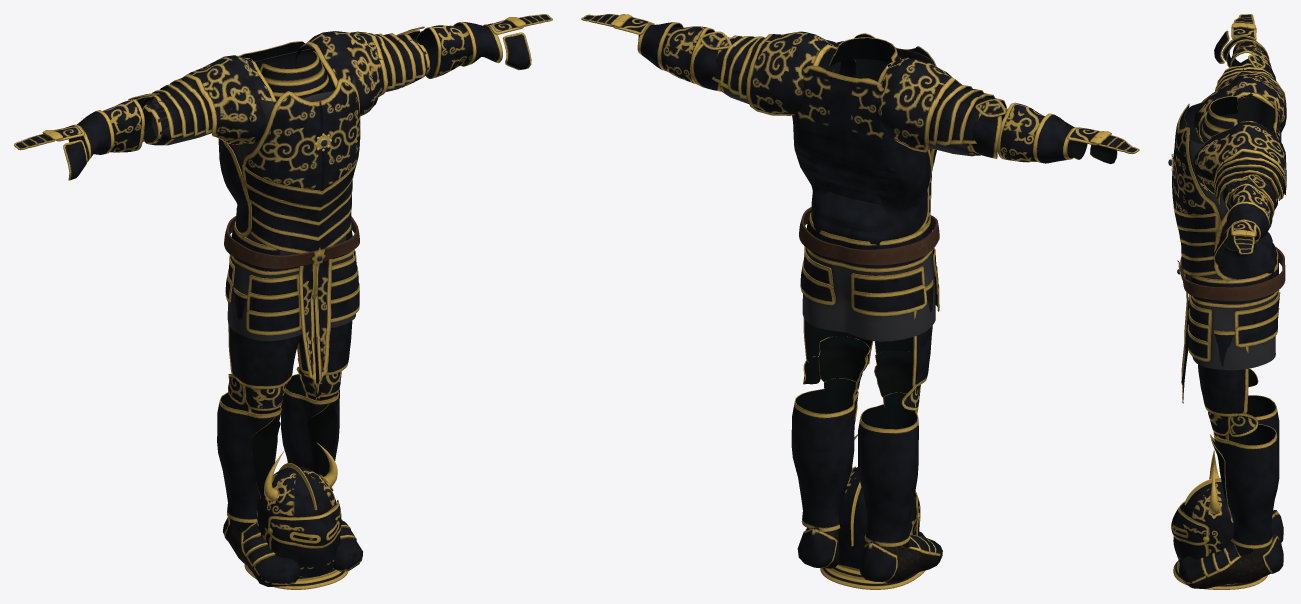
The model's file is infernal.glb.
3 views of the same model, side by side, from view 1: azimuth 30°, elevation 25°; view 2: azimuth 150°, elevation 25°; view 3: azimuth 270°, elevation 25° (orthographic). The views are drawn at different scales.
Parts seen in each view (by area): view 1: chest, feet, gloves, helm, legs; view 2: chest, feet, gloves, legs, helm; view 3: chest, feet, gloves, helm, legs.
Boxes of the visible parts, bbox=[...] form: chest: bbox=[128, 26, 430, 399]; feet: bbox=[217, 373, 362, 586]; gloves: bbox=[14, 14, 552, 180]; helm: bbox=[244, 442, 348, 589]; legs: bbox=[228, 286, 352, 414]; chest: bbox=[690, 31, 1007, 341]; feet: bbox=[791, 388, 942, 582]; gloves: bbox=[581, 14, 1139, 163]; legs: bbox=[803, 279, 933, 413]; helm: bbox=[820, 434, 925, 589]; chest: bbox=[1168, 54, 1286, 403]; feet: bbox=[1179, 395, 1283, 588]; gloves: bbox=[1214, 14, 1272, 265]; helm: bbox=[1171, 450, 1267, 589]; legs: bbox=[1198, 330, 1258, 440].
Size of the model in its own units: 1.78 by 1.63 by 0.3715.
5 materials, 5 textured.
